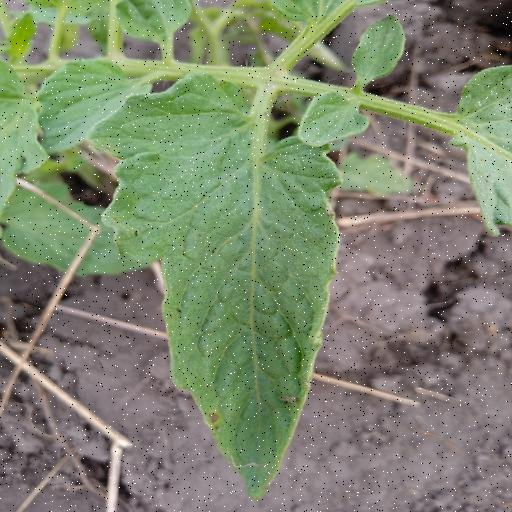Tomato_Mildiou: (83, 66, 350, 505)
